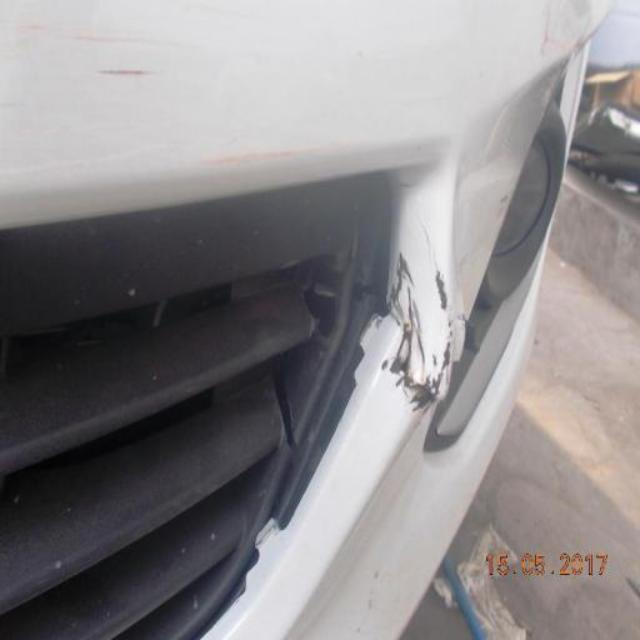crack: (273, 245, 357, 452), (379, 242, 472, 417), (532, 2, 579, 63)
dent: (209, 130, 373, 172)
scratch: (16, 20, 180, 81)
